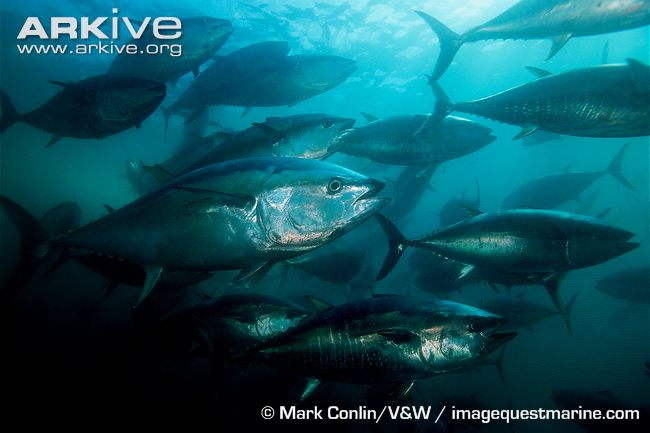Bluefina Tuna: (59, 152, 398, 292), (206, 288, 515, 405), (380, 202, 645, 287)
